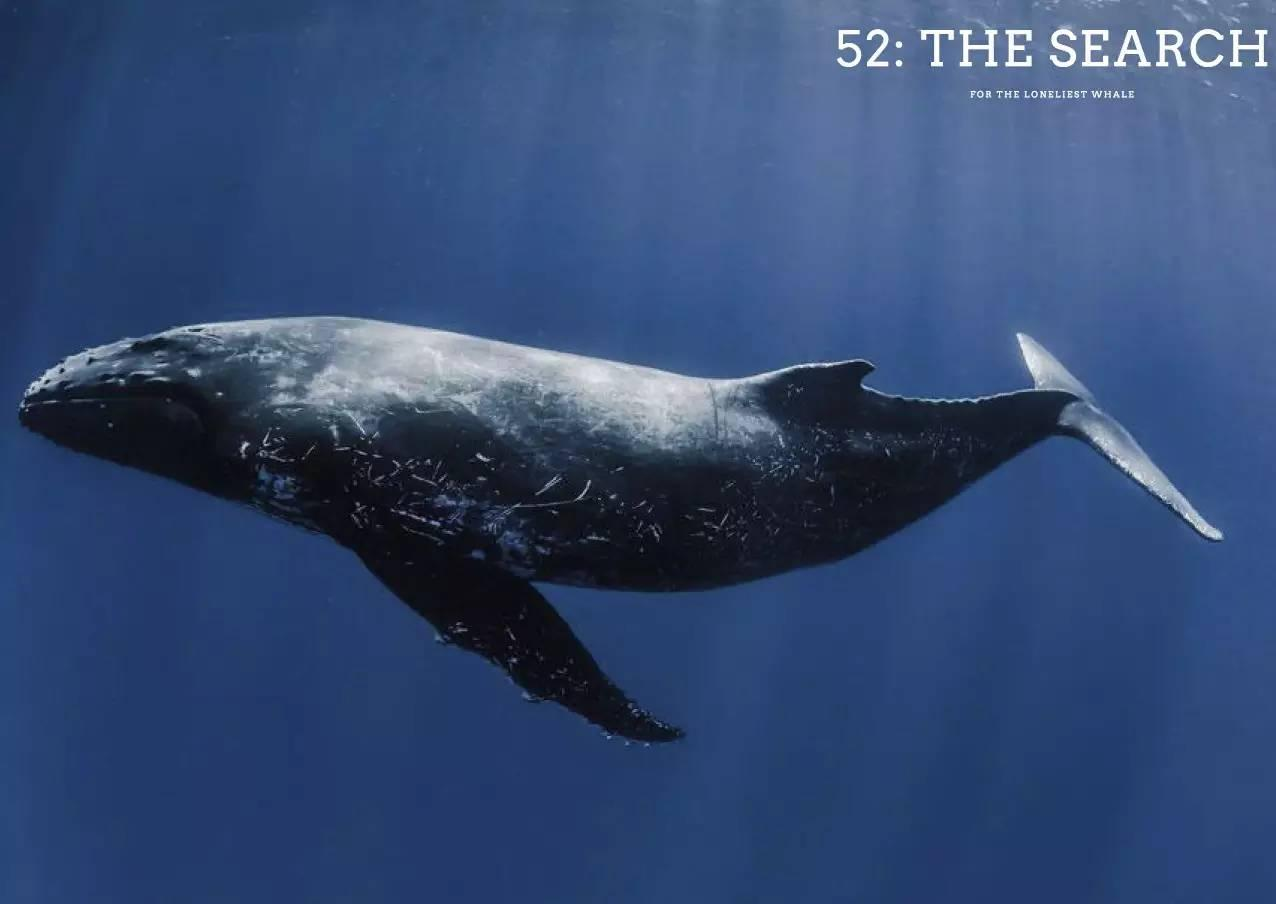fish: (15, 307, 1224, 749)
